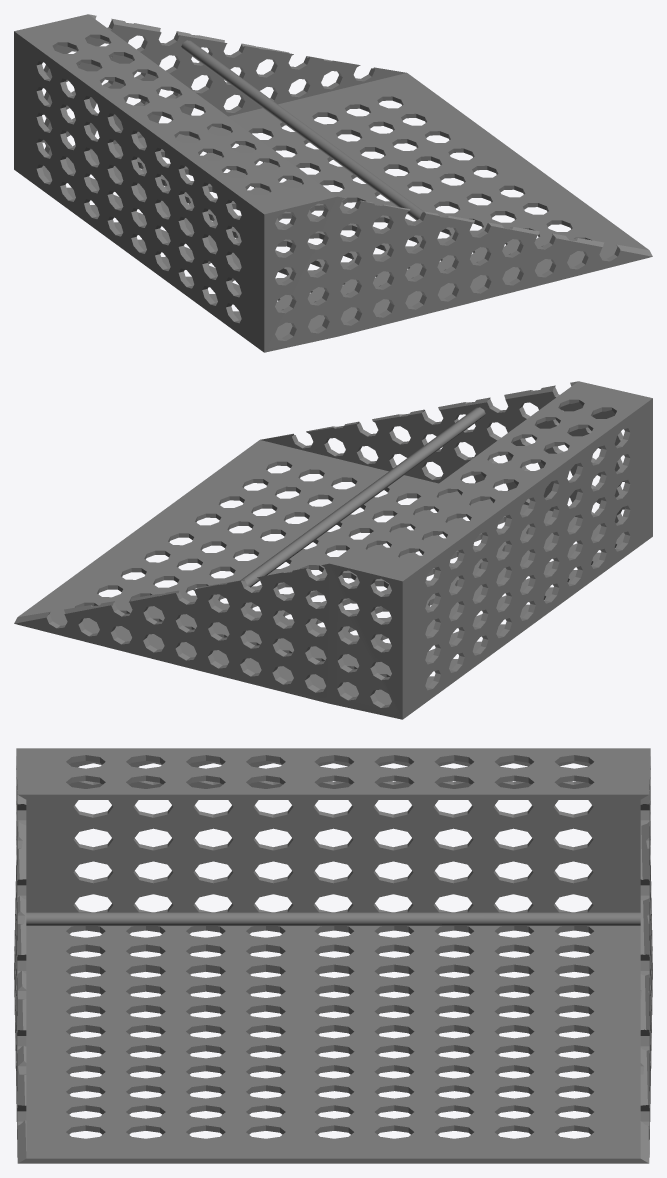
Rendered from submesh_L_Shape_Metal_Drainer.fbx.
The picture shows the model from 3 angles, top to bottom: view 1: azimuth 30°, elevation 25°; view 2: azimuth 150°, elevation 25°; view 3: azimuth 270°, elevation 25°; orthographic projection. The views are drawn at different scales.
Visible parts, largest first — view 1: submesh_L_Shape_Metal_Drain; view 2: submesh_L_Shape_Metal_Drain; view 3: submesh_L_Shape_Metal_Drain.
Part boxes in pixels (bbox=[...]): submesh_L_Shape_Metal_Drain: bbox=[14, 14, 652, 352]; submesh_L_Shape_Metal_Drain: bbox=[14, 381, 652, 719]; submesh_L_Shape_Metal_Drain: bbox=[14, 748, 652, 1163].
Bounding box in the file's own units: 1.04 × 0.3575 × 1.17.
